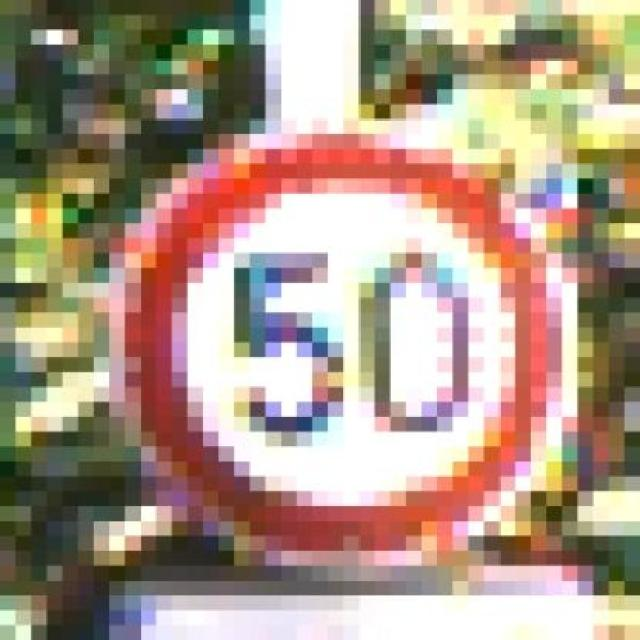forb_speed_over_50: (124, 141, 555, 557)
